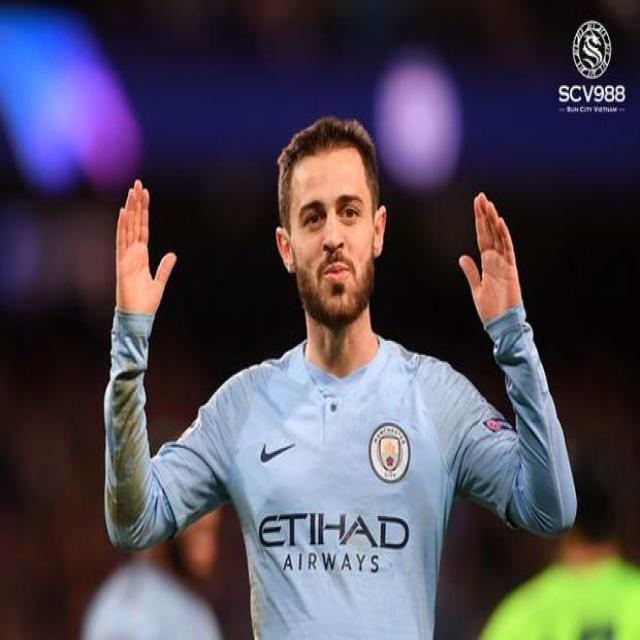human: (96, 116, 597, 638)
